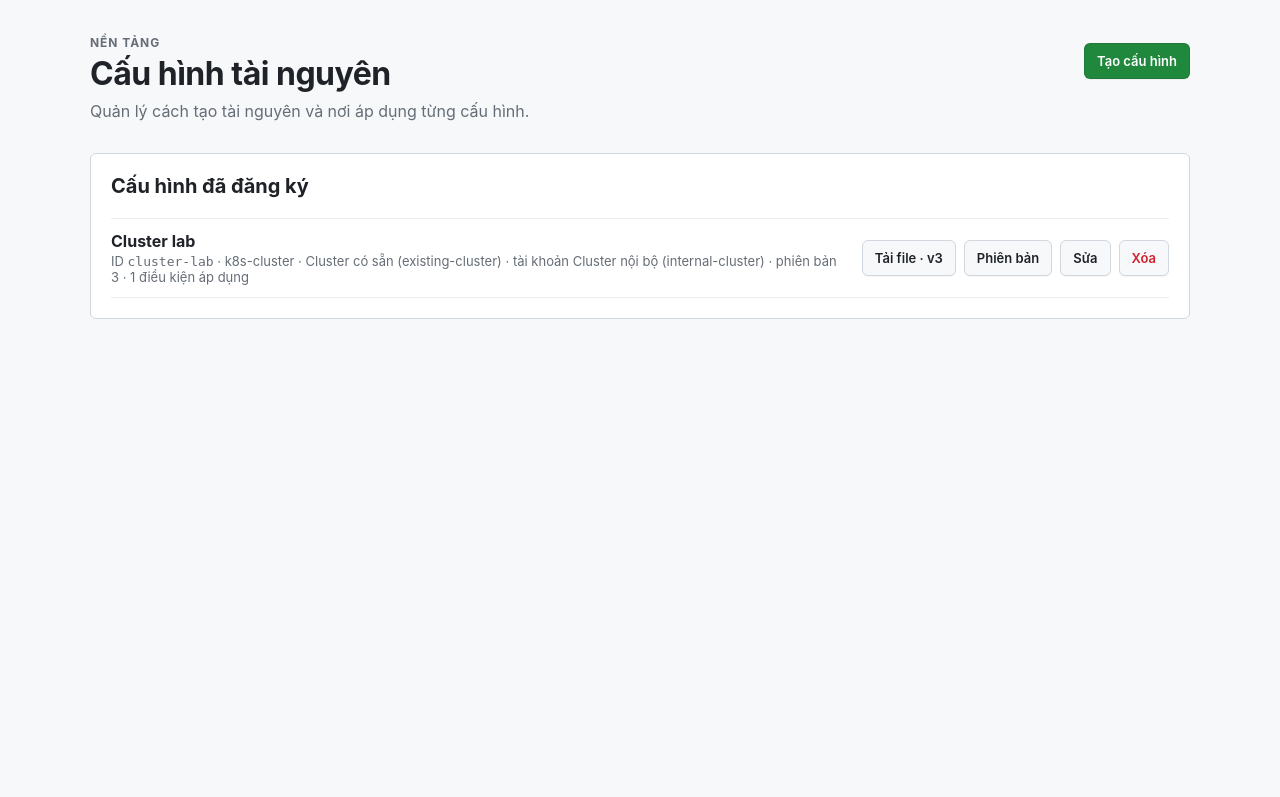
Test: existing-cluster in the shared Definition editor (UI3-05) › keeps the draft and disables Save on a stale version
Expected: the button "Tạo cấu hình" is enabled, [1084, 43, 1190, 79]
Click the button with aria-label "Sửa cấu hình cluster-lab" at (1085, 258), box [1060, 240, 1110, 276]
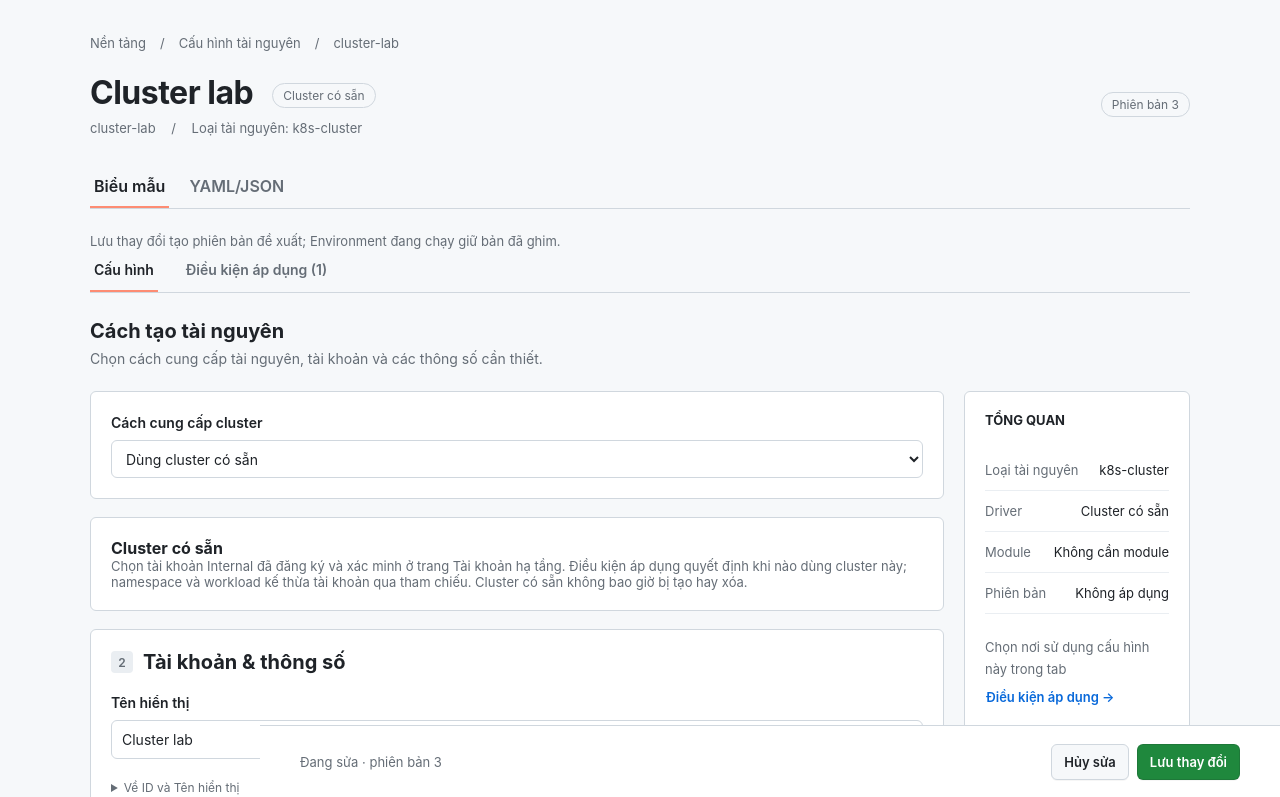
Click the button "Lưu thay đổi" at (1188, 762), box [1137, 744, 1240, 780]
(page scrolled)
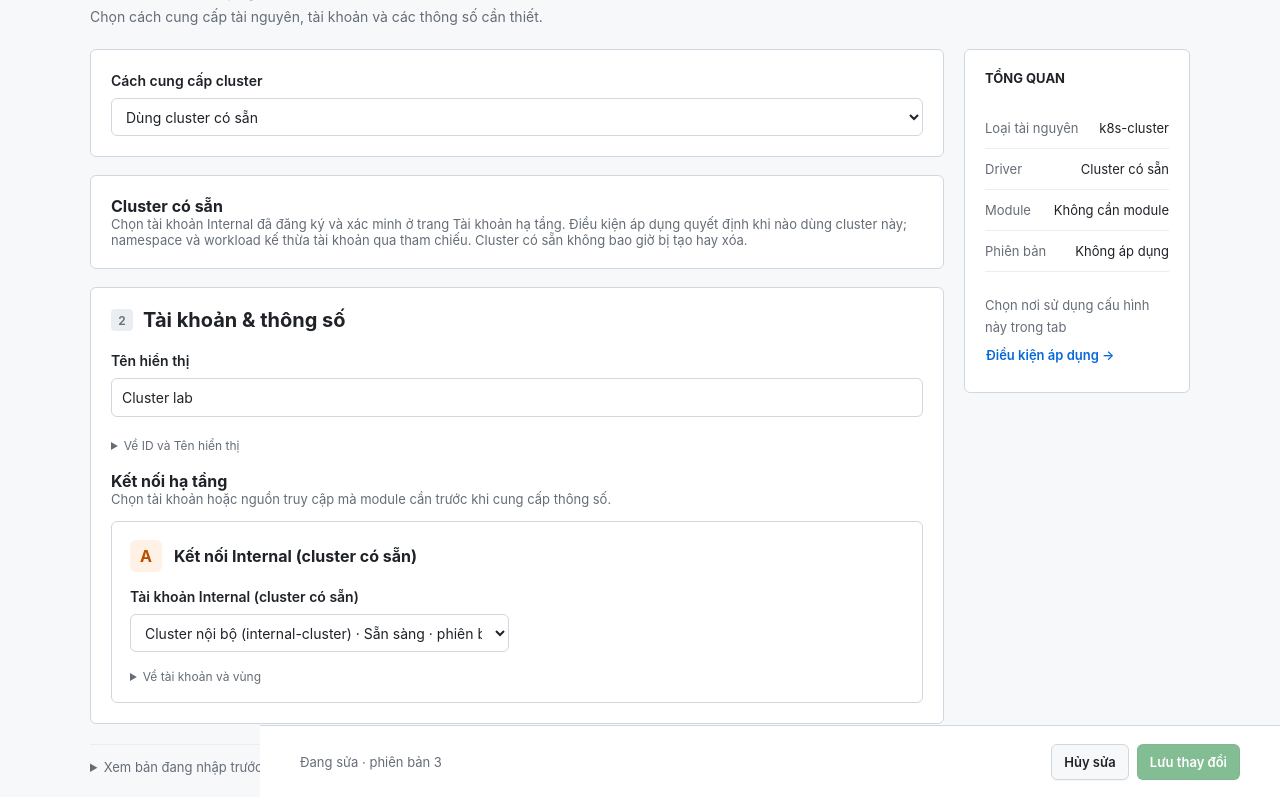
Now the field labelled "Tên hiển thị" holds "Cluster lab", box [111, 378, 923, 417]
Now the button "Lưu thay đổi" is disabled, box [1137, 744, 1240, 780]
